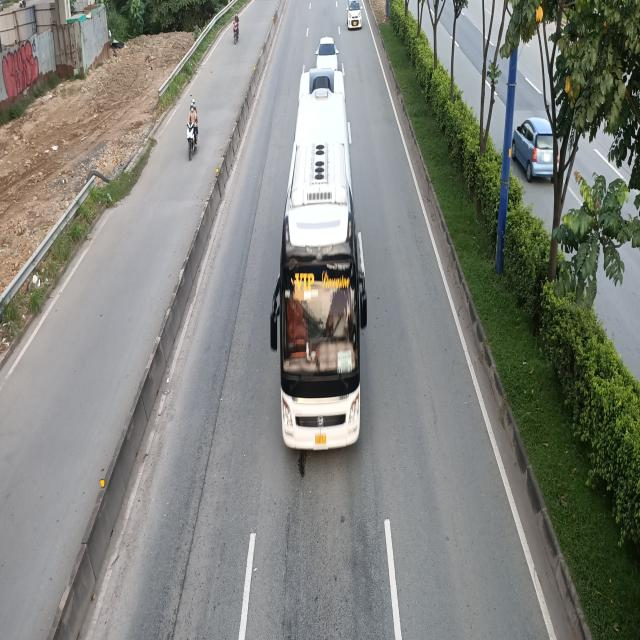car: (346, 0, 362, 28)
coach: (267, 69, 368, 453)
